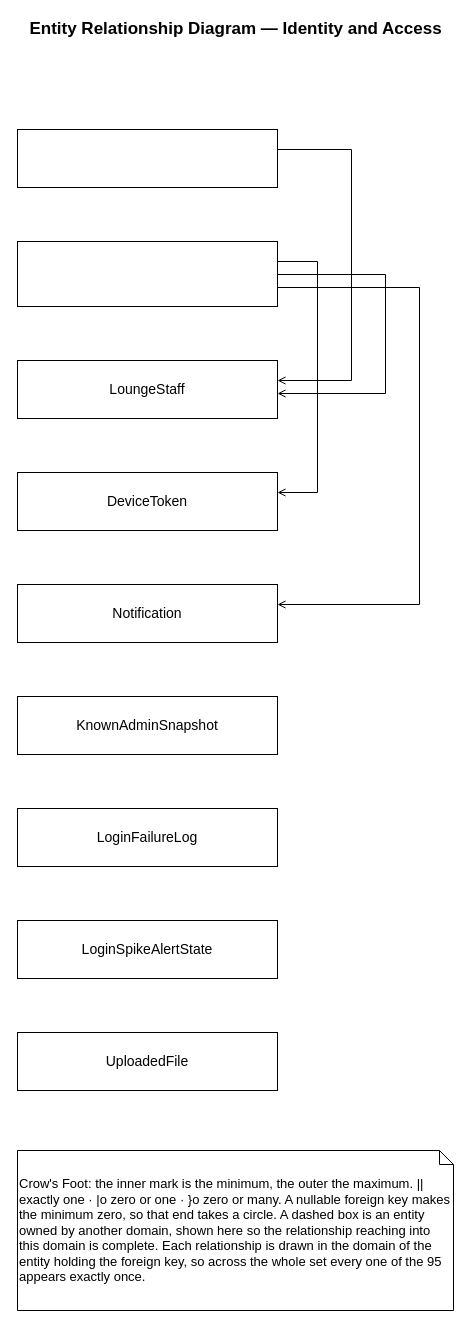
Image size: 471x1328. Some labels were removed from this diagram. Each missing label, with the box of its shape:
MusicLounge (other domain): (16, 128, 278, 188)
User: (16, 240, 278, 306)
